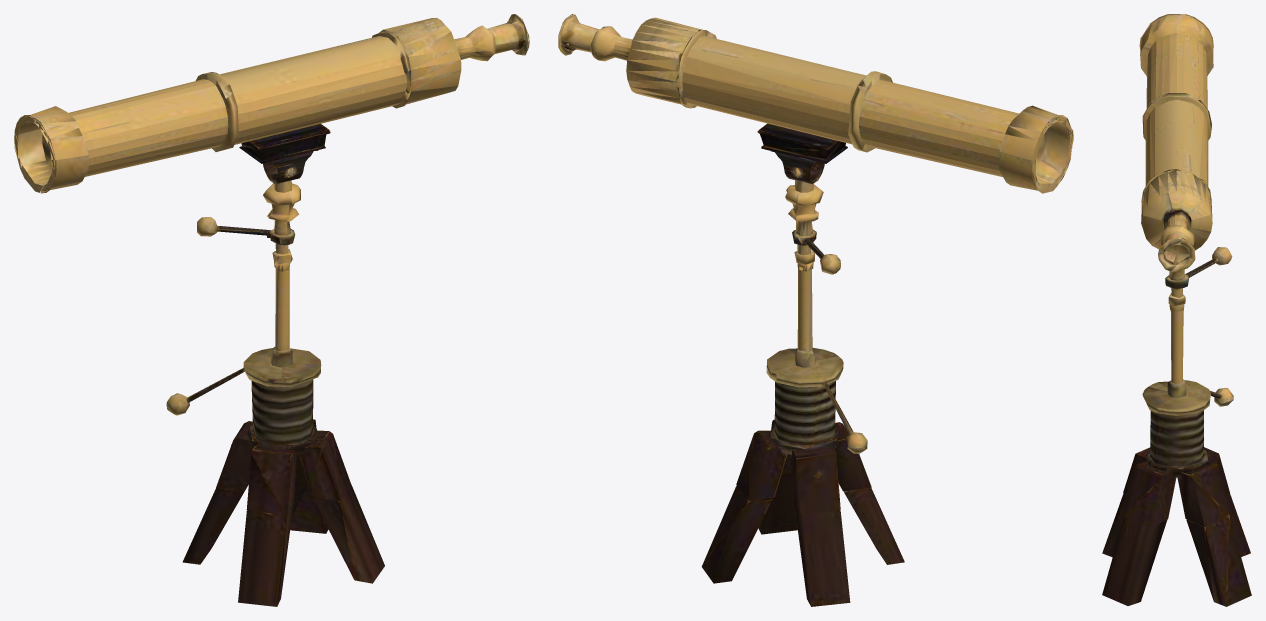
Rendered from telescope.lod1.glb.
The picture shows the model from 3 angles, left to right: view 1: azimuth 30°, elevation 25°; view 2: azimuth 150°, elevation 25°; view 3: azimuth 270°, elevation 25°; orthographic projection. The views are drawn at different scales.
Size of the model in its own units: 1.6 by 1.6 by 0.4804.
Materials: 1 (1 with a texture image).
